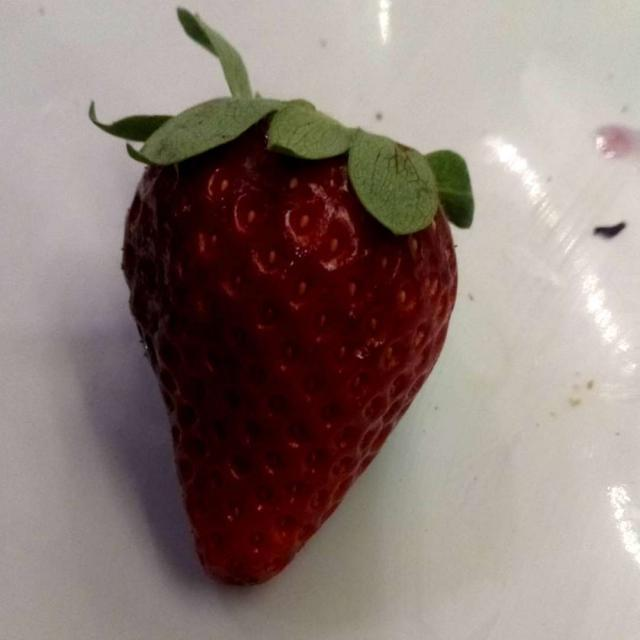strawberries: (108, 42, 465, 577)
